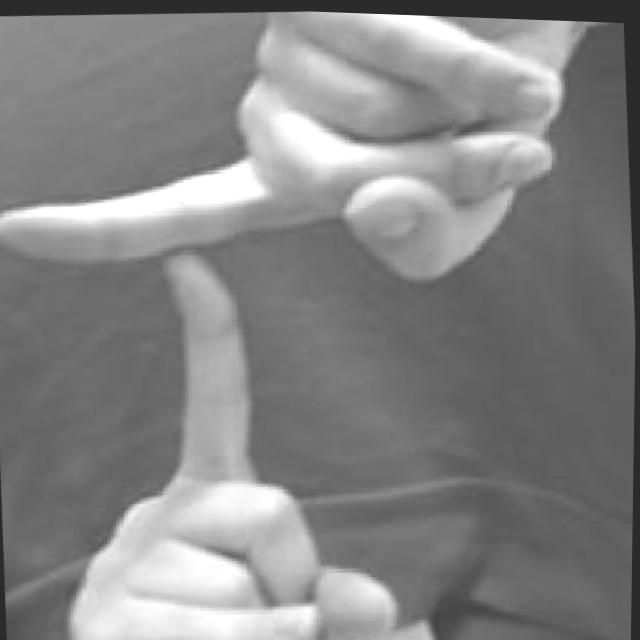T: (0, 0, 607, 640)
